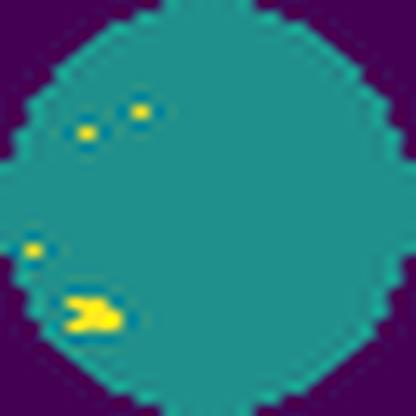Loc: (59, 294, 129, 340)
